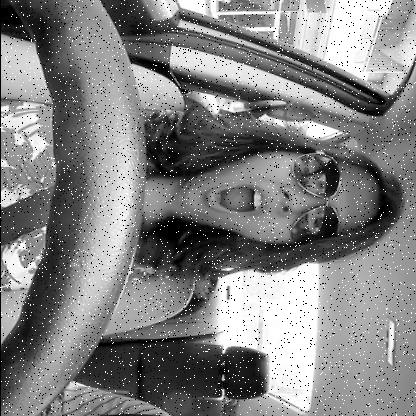seatbelt: (0, 104, 416, 290)
